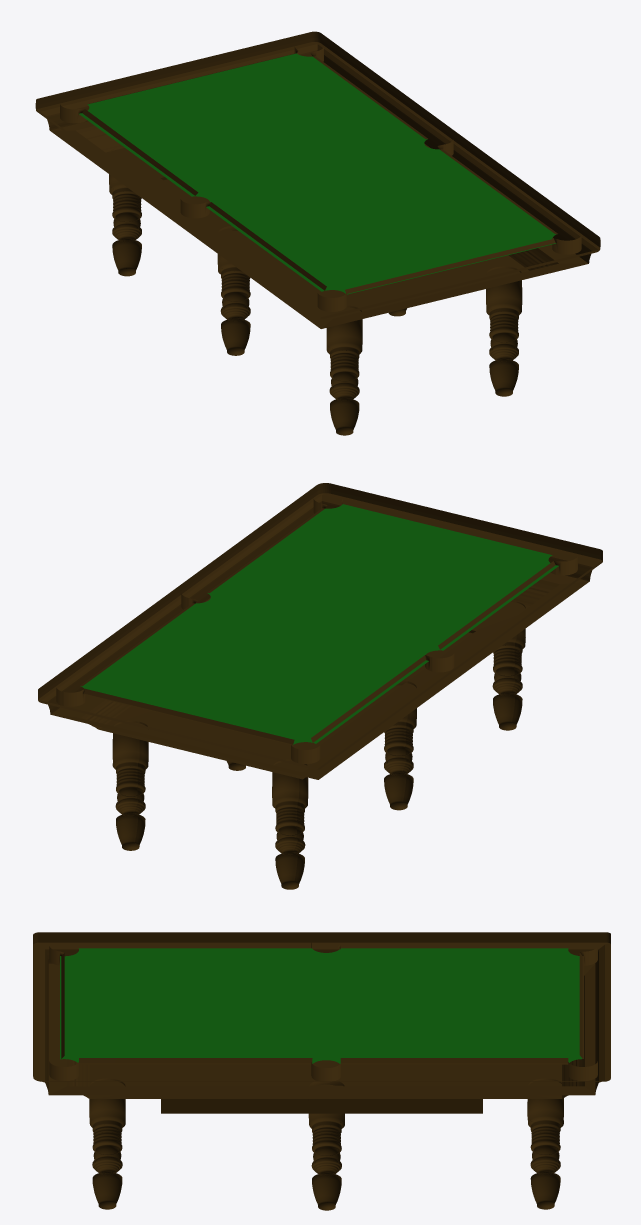
File: billiards_pool.glb
The picture shows the model from 3 angles, top to bottom: view 1: azimuth 30°, elevation 25°; view 2: azimuth 150°, elevation 25°; view 3: azimuth 270°, elevation 25°; orthographic projection.
Visible parts, largest first — view 1: Cylinder.005; view 2: Cylinder.005; view 3: Cylinder.005.
Part boxes in pixels (x1,y1,x2,y2): Cylinder.005: (35, 31, 600, 435); Cylinder.005: (38, 483, 602, 889); Cylinder.005: (33, 932, 610, 1210).
Size of the model in its own units: 16.29 by 8.52 by 27.45.
